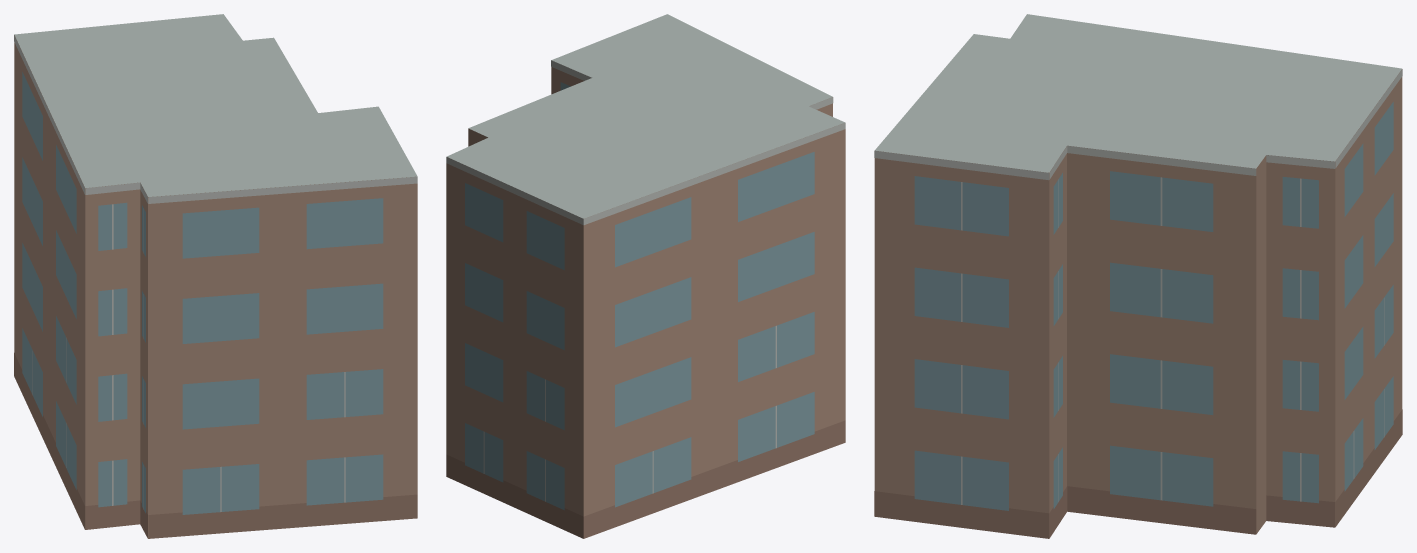
The model's file is survey-upis-32689077.glb.
3 views of the same model, side by side, from view 1: azimuth 30°, elevation 25°; view 2: azimuth 150°, elevation 25°; view 3: azimuth 270°, elevation 25° (orthographic). The views are drawn at different scales.
Visible parts, largest first — view 1: survey-upis-32689077.tmp; view 2: survey-upis-32689077.tmp; view 3: survey-upis-32689077.tmp.
Part boxes in pixels (x1=…): survey-upis-32689077.tmp: x1=14, y1=14, x2=417, y2=538; survey-upis-32689077.tmp: x1=446, y1=14, x2=845, y2=538; survey-upis-32689077.tmp: x1=874, y1=14, x2=1402, y2=538.
Size of the model in its own units: 11.18 by 12 by 15.7.
